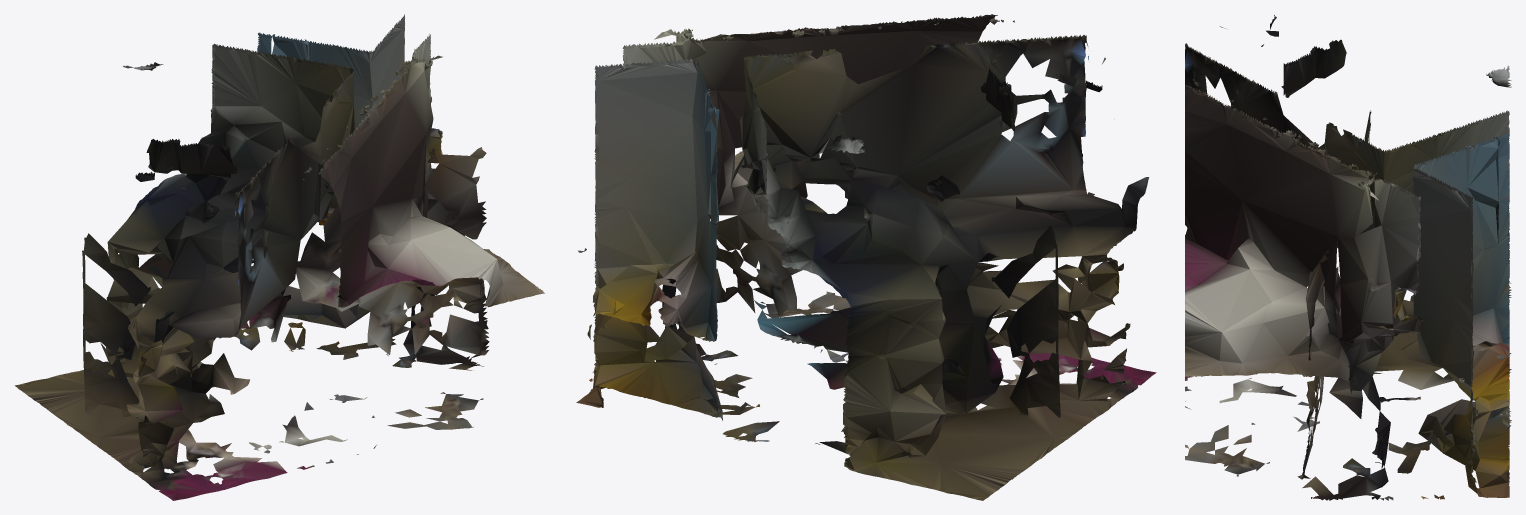
File: coarse.glb
3 renders of one model, left to right at view 1: azimuth 30°, elevation 25°; view 2: azimuth 150°, elevation 25°; view 3: azimuth 270°, elevation 25°, orthographic. The views are drawn at different scales.
Size of the model in its own units: 1.71 by 1.3 by 1.27.
